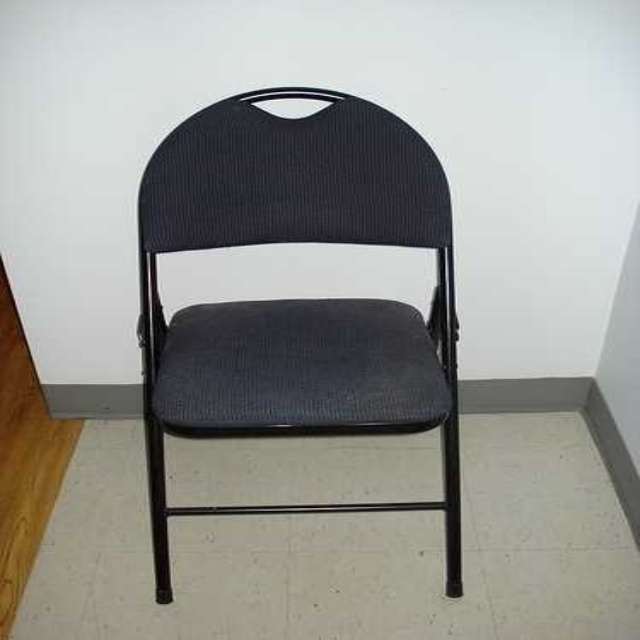obstacle: (138, 87, 461, 602)
